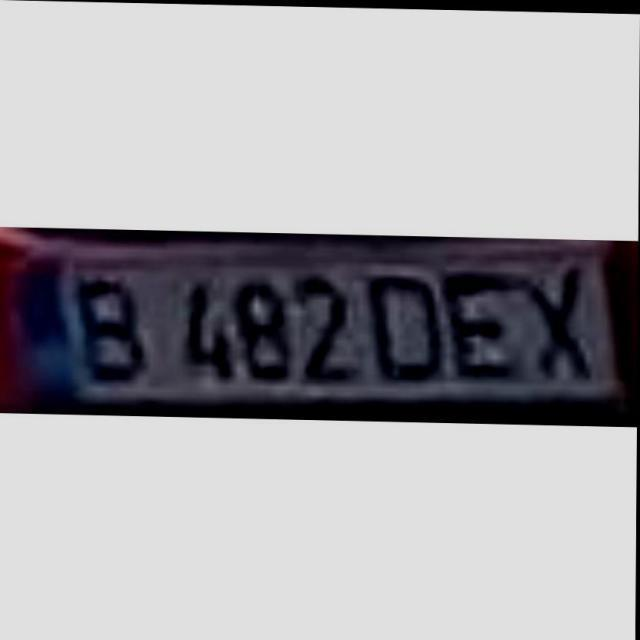license-plates: (0, 229, 640, 424)
